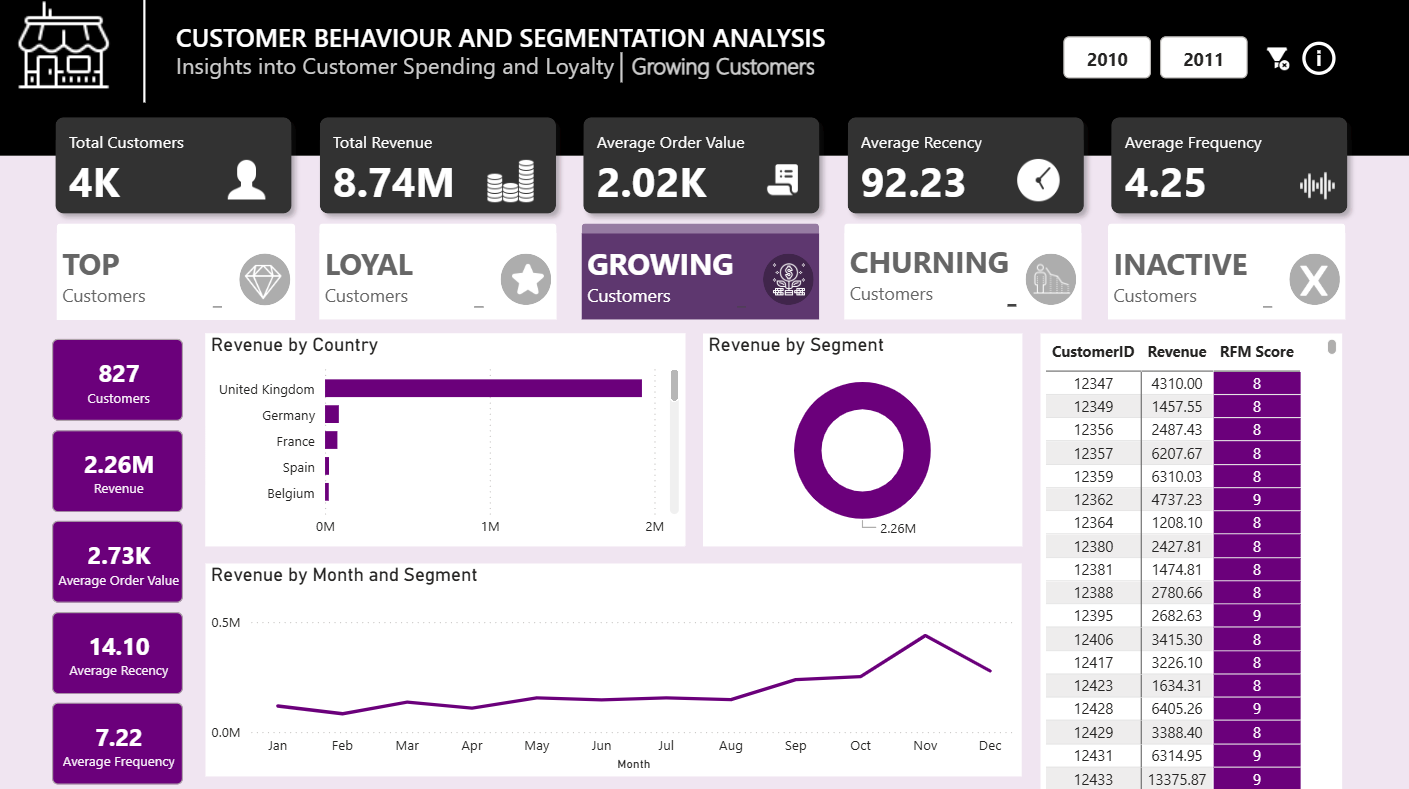

The dashboard page shown, as its layout file describes it:
{"tool":"powerbi","page":{"name":"Dashboard","canvas":[1280,720],"ordinal":0},"visuals":[{"type":"group","id":"g1","title":"online_store","box":[0,0,1280.4,720.2],"z":0},{"type":"shape","box":[0,0,1280,720],"z":0,"group":"g1"},{"type":"shape","box":[57,205,215,11.7],"z":0,"group":"g3"},{"type":"shape","box":[294,205,214,11.6],"z":0,"group":"g4"},{"type":"shape","box":[531,205,214,11.6],"z":0,"group":"g5"},{"type":"shape","box":[768,205,214,11.6],"z":0,"group":"g6"},{"type":"shape","box":[1005,205,214,11.6],"z":0,"group":"g7"},{"type":"group","id":"g2","title":"background","box":[0,144,1280,576],"z":1000,"group":"g1"},{"type":"actionButton","box":[288,208,224,80],"z":1000},{"type":"shape","box":[294,213.7,214,77.5],"z":1000,"group":"g4"},{"type":"shape","box":[531,213.7,214,77.5],"z":1000,"group":"g5"},{"type":"shape","box":[768,213.7,214,77.5],"z":1000,"group":"g6"},{"type":"shape","box":[1005,213.7,214,77.5],"z":1000,"group":"g7"},{"type":"shape","box":[57,213.8,215,78],"z":1000,"group":"g3"},{"type":"shape","box":[0,0,1280,144],"z":2000,"group":"g1"},{"type":"actionButton","box":[64,208,208,80],"z":2000},{"type":"textbox","title":"CHURNING","box":[768,221,160,64],"z":2000,"group":"g6"},{"type":"textbox","title":"LOYAL","box":[294,223.4,152.9,62],"z":2000,"group":"g4"},{"type":"textbox","title":"GROWING","box":[531,223.4,152.9,62],"z":2000,"group":"g5"},{"type":"textbox","title":"INACTIVE","box":[1005,223.4,152.9,62],"z":2000,"group":"g7"},{"type":"textbox","title":"TOP","box":[57,223.5,153.6,62.4],"z":2000,"group":"g3"},{"type":"image","title":"logo","box":[16,0,96,96],"z":3000,"group":"g1"},{"type":"actionButton","box":[528,208,224,80],"z":3000},{"type":"shape","box":[457.4,232.1,45.9,46.5],"z":3000,"group":"g4"},{"type":"shape","box":[694.4,232.1,45.9,46.5],"z":3000,"group":"g5"},{"type":"shape","box":[931.4,232.1,45.9,46.5],"z":3000,"group":"g6"},{"type":"shape","box":[1168.4,232.1,45.9,46.5],"z":3000,"group":"g7"},{"type":"shape","box":[221.1,232.3,46.1,46.8],"z":3000,"group":"g3"},{"type":"shape","box":[128,0,16,96],"z":4000,"group":"g1"},{"type":"actionButton","box":[768,208,208,80],"z":4000},{"type":"image","box":[458,232,47,47],"z":4000,"group":"g4"},{"type":"image","box":[932,232,45,45],"z":4000,"group":"g6"},{"type":"image","box":[698,235,40,40],"z":4000,"group":"g5"},{"type":"image","box":[222.1,235.2,43.2,43.9],"z":4000,"group":"g3"},{"type":"image","box":[1171,236,40,40],"z":4000,"group":"g7"},{"type":"cardVisual","title":"segment kpi","fields":{"Data":["Segment_KPI_Measures.Segment_Total_Customers","Segment_KPI_Measures.Segment_Total_Revenue","Segment_KPI_Measures.Segmenta_Average_Order_Value","Segment_KPI_Measures.Segment_Average_Recency","Segment_KPI_Measures.Segment_Average_Frequency"]},"box":[48,304,128,416],"z":4000,"group":"g9"},{"type":"barChart","title":"Revenue by Country","fields":{"Category":["CustomerRFM.Country"],"Y":["Sum(CustomerRFM.TotalSpend)"]},"box":[192,304,432,192],"z":4000,"group":"g8"},{"type":"textbox","title":"CUSTOMER BEHAVIOUR AND SEGMENTATION ANALYSIS","box":[160.5,21.1,607.1,32.3],"z":5000,"group":"g1"},{"type":"actionButton","box":[1008,208,208,80],"z":5000},{"type":"cardVisual","title":"segment kpi","fields":{"Data":["Segment_KPI_Measures.Segment_Total_Customers","Segment_KPI_Measures.Segment_Total_Revenue","Segment_KPI_Measures.Segmenta_Average_Order_Value","Segment_KPI_Measures.Segment_Average_Recency","Segment_KPI_Measures.Segment_Average_Frequency"]},"box":[48,304,128,416],"z":5000,"group":"g9"},{"type":"barChart","title":"Revenue by Country","fields":{"Category":["CustomerRFM.Country"],"Y":["Sum(CustomerRFM.TotalSpend)"]},"box":[192,304,432,192],"z":5000,"group":"g8"},{"type":"actionButton","title":"info btn","box":[1176,28,40,56],"z":6000},{"type":"textbox","title":"Insights into Customer Spending and Loyalty","box":[160,48,736,32],"z":6000,"group":"g1"},{"type":"cardVisual","title":"main kpi","fields":{"Data":["Main_KPI_Measures.Total_Customers","Main_KPI_Measures.Total_Revenue","Main_KPI_Measures.Average_Order_Value","Main_KPI_Measures.Average_Recency","Main_KPI_Measures.Average_Frequency"]},"box":[40,92,1200,121],"z":7000,"group":"g1"},{"type":"actionButton","title":"toolpit_btn_open","box":[1172,32,48,48],"z":8000},{"type":"actionButton","box":[63.4,112,200.3,82.1],"z":9000},{"type":"group","id":"g3","title":"Top_inactive","box":[57,205,215,78],"z":9000,"group":"g1"},{"type":"actionButton","box":[299.8,112,200.3,82.1],"z":10000},{"type":"actionButton","box":[539.9,112,200.3,82.1],"z":11000},{"type":"group","id":"g4","title":"Loyal_inactive","box":[294,205,214,86.2],"z":11000,"group":"g1"},{"type":"actionButton","box":[777.5,112,200.3,82.1],"z":12000},{"type":"actionButton","box":[1013.8,112,200.3,82.1],"z":13000},{"type":"group","id":"g5","title":"Growing_inactive","box":[531,205,214,86.2],"z":13000,"group":"g1"},{"type":"cardVisual","fields":{"Data":["Conditional Formating.ViewingText"]},"box":[559,24,233.9,59.7],"z":14000},{"type":"shape","box":[546,51,42.3,27.4],"z":15000},{"type":"group","id":"g6","title":"Churning_inactive","box":[768,205,214,86.2],"z":15000,"group":"g1"},{"type":"group","id":"g7","title":"Inactive_inactive","box":[1005,205,214,86.2],"z":17000,"group":"g1"},{"type":"lineChart","fields":{"Y":["Sum(OnlineRetail.TotalAmount)"],"Series":["CustomerRFM.Customer_Segment"],"Category":["OnlineRetail.OrderMonthAbbr"]},"box":[192,512,736,192],"z":19000,"group":"g1"},{"type":"donutChart","fields":{"Category":["CustomerRFM.Customer_Segment"],"Y":["Sum(CustomerRFM.TotalSpend)"]},"box":[640,304,288,192],"z":20000,"group":"g1"},{"type":"pivotTable","fields":{"Rows":["CustomerRFM.CustomerID"],"Values":["Sum(CustomerRFM.TotalSpend)","Sum(CustomerRFM.RFM_Score)"]},"box":[944,304,272,416],"z":21000,"group":"g1"},{"type":"advancedSlicerVisual","title":"Year slicer","fields":{"Values":["OnlineRetail.Year"]},"box":[960,32,176,48],"z":22000,"group":"g1"},{"type":"image","title":"clear slicer","box":[1142,16,32,80],"z":23000,"group":"g1"},{"type":"actionButton","title":"info btn","box":[1175,32,32,48],"z":24000,"group":"g1"},{"type":"group","id":"g8","title":"Revenue by country","box":[192,304,432,192],"z":25000,"group":"g1"},{"type":"group","id":"g9","title":"segment kpi","box":[48,304,128,416],"z":26000,"group":"g1"}]}

Visuals, with their boxes in screenshot pixels (x1, y1, x2, y2), scaled from the page's 1280x720 canvas onto the 1409x789 screenshot:
"online_store" group: crop(0, 0, 1408, 788)
shape: crop(0, 0, 1408, 788)
shape: crop(63, 225, 299, 237)
shape: crop(324, 225, 559, 237)
shape: crop(585, 225, 820, 237)
shape: crop(845, 225, 1081, 237)
shape: crop(1106, 225, 1342, 237)
"background" group: crop(0, 158, 1408, 788)
actionButton: crop(317, 228, 564, 316)
shape: crop(324, 234, 559, 319)
shape: crop(585, 234, 820, 319)
shape: crop(845, 234, 1081, 319)
shape: crop(1106, 234, 1342, 319)
shape: crop(63, 234, 299, 320)
shape: crop(0, 0, 1408, 158)
actionButton: crop(70, 228, 299, 316)
"CHURNING" textbox: crop(845, 242, 1022, 312)
"LOYAL" textbox: crop(324, 245, 492, 313)
"GROWING" textbox: crop(585, 245, 753, 313)
"INACTIVE" textbox: crop(1106, 245, 1275, 313)
"TOP" textbox: crop(63, 245, 232, 313)
"logo" image: crop(18, 0, 123, 105)
actionButton: crop(581, 228, 828, 316)
shape: crop(503, 254, 554, 305)
shape: crop(764, 254, 815, 305)
shape: crop(1025, 254, 1076, 305)
shape: crop(1286, 254, 1337, 305)
shape: crop(243, 255, 294, 306)
shape: crop(141, 0, 159, 105)
actionButton: crop(845, 228, 1074, 316)
image: crop(504, 254, 556, 306)
image: crop(1026, 254, 1075, 304)
image: crop(768, 258, 812, 301)
image: crop(244, 258, 292, 306)
image: crop(1289, 259, 1333, 302)
"segment kpi" cardVisual: crop(53, 333, 194, 788)
"Revenue by Country" barChart: crop(211, 333, 687, 544)
"CUSTOMER BEHAVIOUR AND SEGMENTATION ANALYSIS" textbox: crop(177, 23, 845, 59)
actionButton: crop(1110, 228, 1339, 316)
"segment kpi" cardVisual: crop(53, 333, 194, 788)
"Revenue by Country" barChart: crop(211, 333, 687, 544)
"info btn" actionButton: crop(1295, 31, 1339, 92)
"Insights into Customer Spending and Loyalty" textbox: crop(176, 53, 986, 88)
"main kpi" cardVisual: crop(44, 101, 1365, 233)
"toolpit_btn_open" actionButton: crop(1290, 35, 1343, 88)
actionButton: crop(70, 123, 290, 213)
"Top_inactive" group: crop(63, 225, 299, 310)
actionButton: crop(330, 123, 551, 213)
actionButton: crop(594, 123, 815, 213)
"Loyal_inactive" group: crop(324, 225, 559, 319)
actionButton: crop(856, 123, 1076, 213)
actionButton: crop(1116, 123, 1336, 213)
"Growing_inactive" group: crop(585, 225, 820, 319)
cardVisual - Conditional Formating.ViewingText: crop(615, 26, 873, 92)
shape: crop(601, 56, 648, 86)
"Churning_inactive" group: crop(845, 225, 1081, 319)
"Inactive_inactive" group: crop(1106, 225, 1342, 319)
lineChart - Sum(OnlineRetail.TotalAmount) x CustomerRFM.Customer_Segment: crop(211, 561, 1022, 771)
donutChart - CustomerRFM.Customer_Segment x Sum(CustomerRFM.TotalSpend): crop(704, 333, 1022, 544)
pivotTable - CustomerRFM.CustomerID x Sum(CustomerRFM.TotalSpend): crop(1039, 333, 1339, 788)
"Year slicer" advancedSlicerVisual: crop(1057, 35, 1250, 88)
"clear slicer" image: crop(1257, 18, 1292, 105)
"info btn" actionButton: crop(1293, 35, 1329, 88)
"Revenue by country" group: crop(211, 333, 687, 544)
"segment kpi" group: crop(53, 333, 194, 788)
